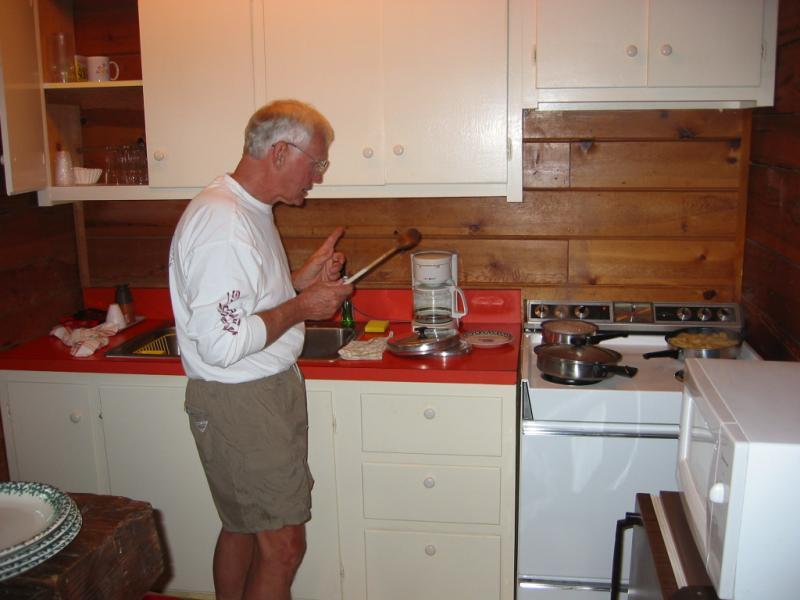person: (167, 98, 359, 598)
